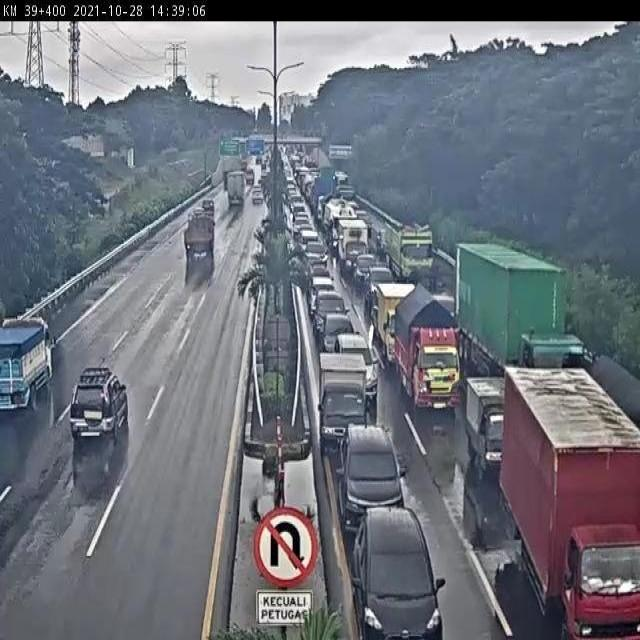Car: (352, 504, 446, 640), (335, 423, 409, 536), (67, 363, 129, 446), (334, 331, 382, 403), (313, 288, 351, 341), (317, 311, 363, 354), (308, 275, 337, 319), (305, 261, 335, 301), (366, 266, 394, 306), (351, 252, 378, 287), (303, 238, 330, 270), (299, 228, 321, 254), (292, 214, 312, 238), (251, 188, 264, 205), (298, 222, 314, 234), (292, 209, 310, 219)
Truck: (501, 371, 639, 612), (453, 243, 588, 386), (388, 284, 462, 414), (0, 313, 57, 413), (316, 350, 371, 452), (463, 378, 506, 477), (369, 281, 415, 372), (384, 220, 434, 285), (335, 216, 370, 274), (323, 198, 357, 250), (183, 208, 215, 259), (313, 176, 339, 224), (226, 170, 246, 208), (221, 156, 243, 190), (334, 184, 355, 202), (317, 166, 333, 183), (202, 198, 214, 218), (246, 168, 254, 186), (255, 155, 263, 165)
